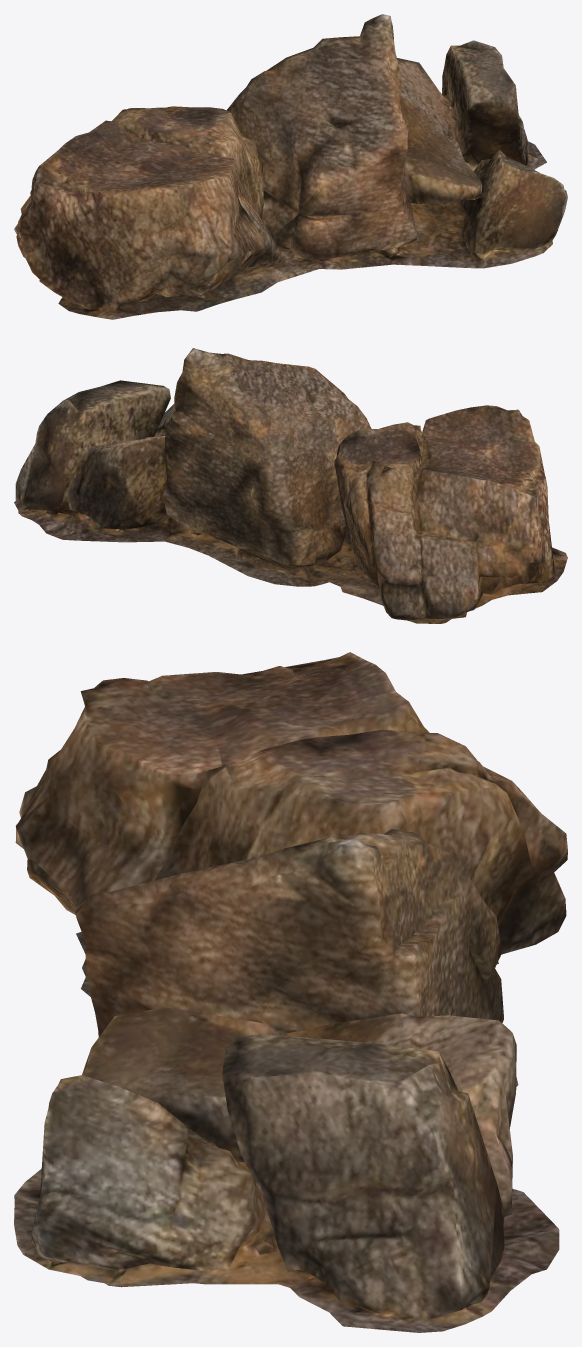
The model's file is namaqualand_boulder_02-lod1.glb.
The picture shows the model from 3 angles, top to bottom: view 1: azimuth 30°, elevation 25°; view 2: azimuth 150°, elevation 25°; view 3: azimuth 270°, elevation 25°; orthographic projection. The views are drawn at different scales.
Parts seen in each view (by area): view 1: boulder_02; view 2: boulder_02; view 3: boulder_02.
Boxes of the visible parts, x1,y1,x2,y2 form: boulder_02: [14, 14, 567, 319]; boulder_02: [14, 348, 567, 623]; boulder_02: [14, 652, 567, 1332].
Bounding box in the file's own units: 2.53 × 0.8804 × 1.23.
1 material, 1 textured.
